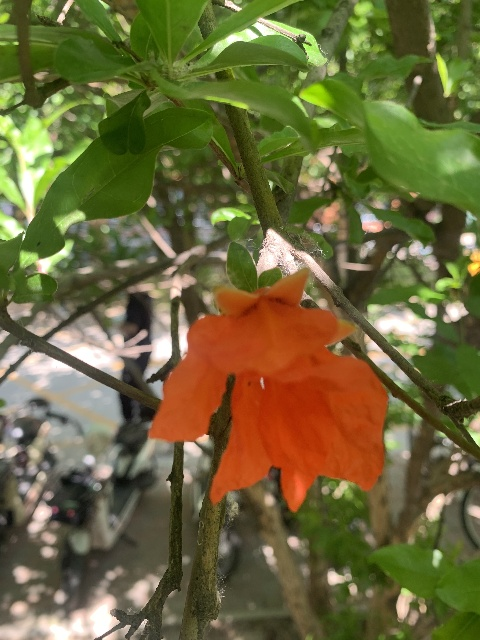flower: (150, 270, 386, 514)
